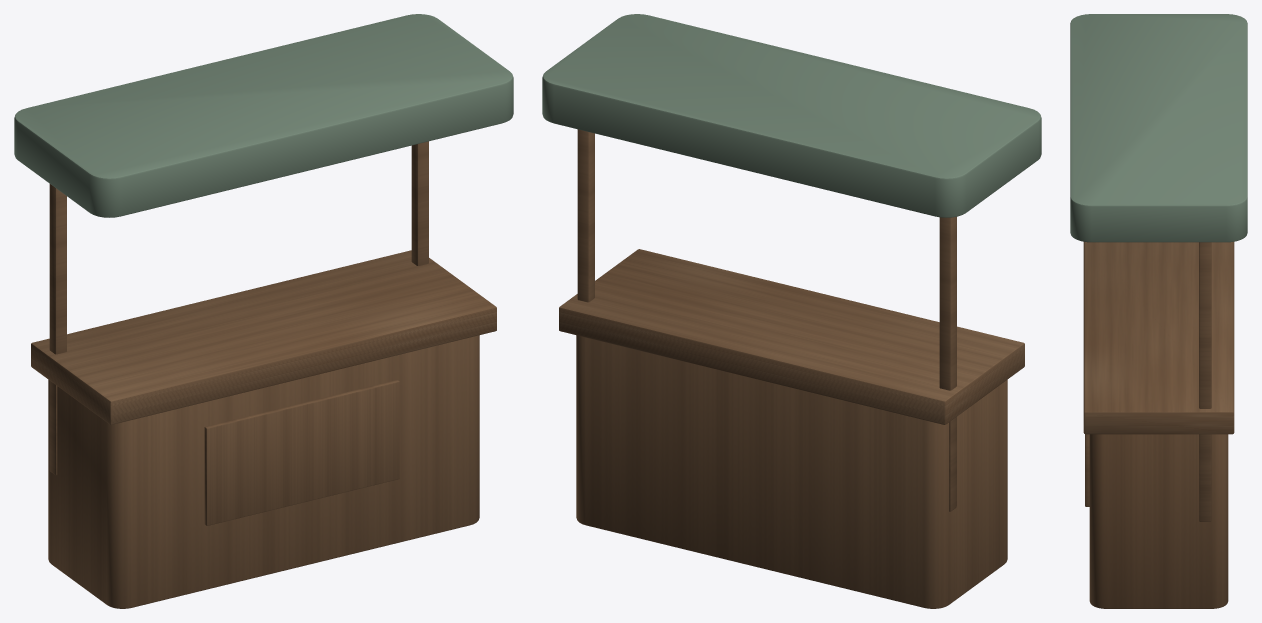
The model's file is bag_drop_station_high_end.glb.
The picture shows the model from 3 angles, left to right: view 1: azimuth 30°, elevation 25°; view 2: azimuth 150°, elevation 25°; view 3: azimuth 270°, elevation 25°; orthographic projection. The views are drawn at different scales.
Parts seen in each view (by area): view 1: BagDrop_Counter, BagDrop_Canopy, BagDrop_ServiceTop, BagDrop_ConciergePanel, BagDrop_CanopyPost_L, BagDrop_CanopyPost_R; view 2: BagDrop_Counter, BagDrop_Canopy, BagDrop_ServiceTop, BagDrop_CanopyPost_L, BagDrop_CanopyPost_R; view 3: BagDrop_Canopy, BagDrop_ServiceTop, BagDrop_Counter, BagDrop_CanopyPost_R, BagDrop_ConciergePanel.
Boxes of the visible parts, x1,y1,x2,y2 form: BagDrop_Counter: (48, 335, 479, 608); BagDrop_Canopy: (14, 14, 513, 217); BagDrop_ServiceTop: (31, 250, 496, 424); BagDrop_ConciergePanel: (204, 380, 399, 525); BagDrop_CanopyPost_L: (49, 184, 66, 475); BagDrop_CanopyPost_R: (411, 141, 428, 265); BagDrop_Counter: (576, 335, 1007, 608); BagDrop_Canopy: (542, 14, 1041, 217); BagDrop_ServiceTop: (559, 249, 1024, 424); BagDrop_CanopyPost_L: (939, 216, 956, 511); BagDrop_CanopyPost_R: (577, 129, 594, 302); BagDrop_Canopy: (1070, 14, 1247, 242); BagDrop_ServiceTop: (1083, 241, 1234, 434); BagDrop_Counter: (1089, 434, 1228, 608); BagDrop_CanopyPost_R: (1199, 242, 1211, 521); BagDrop_ConciergePanel: (1085, 434, 1089, 506).
Size of what is drawn, in the model's own units: 2.12 by 2.14 by 0.828.
2 materials, 1 textured.
